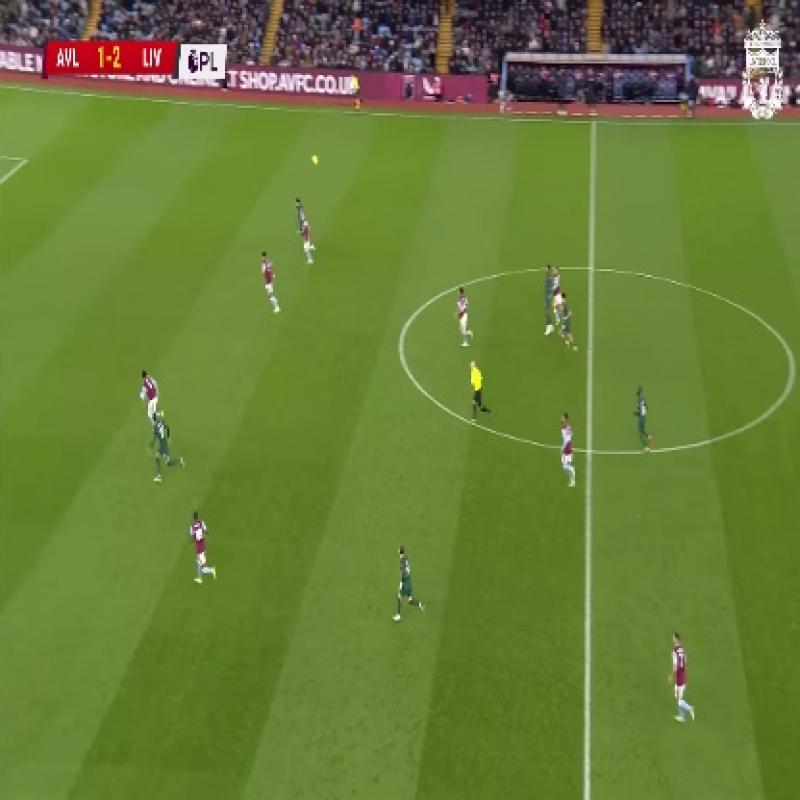13: (583, 108, 604, 132)
14: (577, 250, 604, 283)
15: (575, 431, 602, 468)
9: (14, 146, 32, 171)
c: (384, 323, 416, 357), (783, 353, 800, 386)
